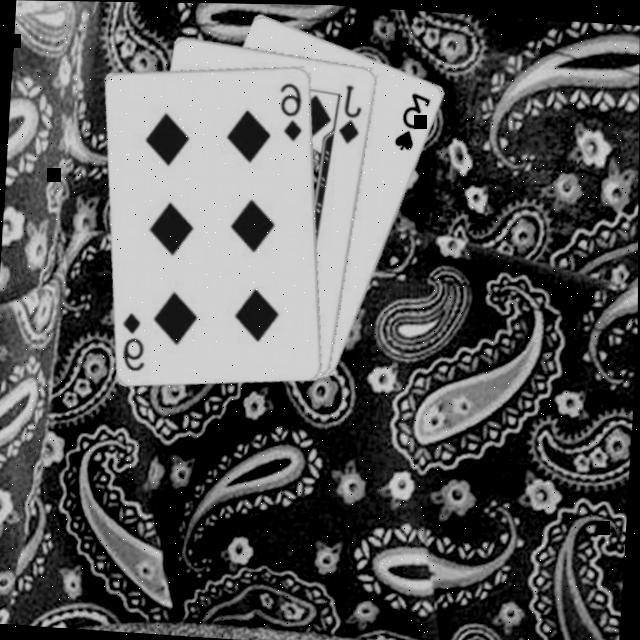3S: (391, 88, 434, 156)
6D: (117, 310, 150, 375), (274, 80, 307, 144)
JD: (334, 82, 366, 148)
